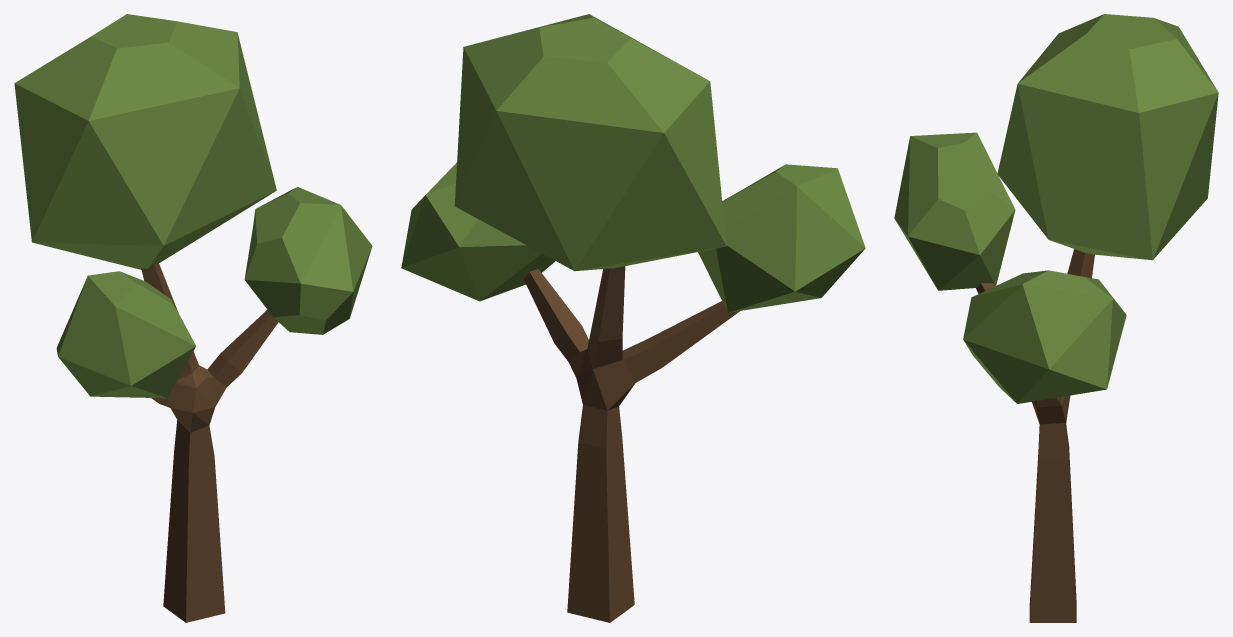
Rendered from Pohon3.fbx.
The picture shows the model from 3 angles, left to right: view 1: azimuth 30°, elevation 25°; view 2: azimuth 150°, elevation 25°; view 3: azimuth 270°, elevation 25°; orthographic projection. The views are drawn at different scales.
Visible parts, largest first — view 1: tree_5c; view 2: tree_5c; view 3: tree_5c.
Boxes of the visible parts, bbox=[...] form: tree_5c: bbox=[14, 14, 372, 622]; tree_5c: bbox=[401, 14, 865, 622]; tree_5c: bbox=[894, 14, 1218, 622].
Size of the model in its own units: 430 by 625 by 320.
